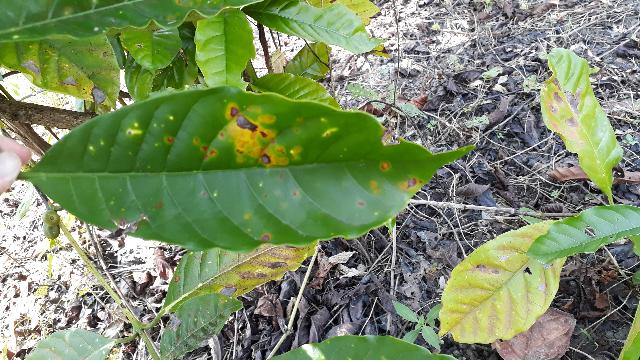rust_level_2: (33, 87, 477, 251)
